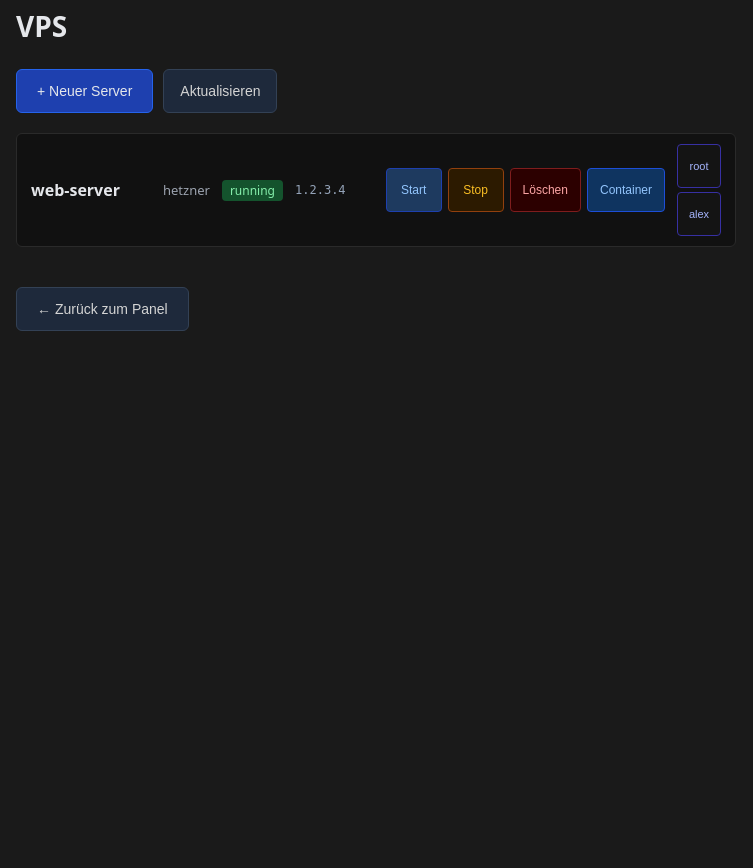
Test: VpsContainerOverview — AC1: Container-Button + Listing-Fetch › Container-Button hat korrekte aria-expanded-Attribute
The width and height of the screenshot is (753, 868).
Click the button "Container" at (626, 190), box [587,168,665,212]
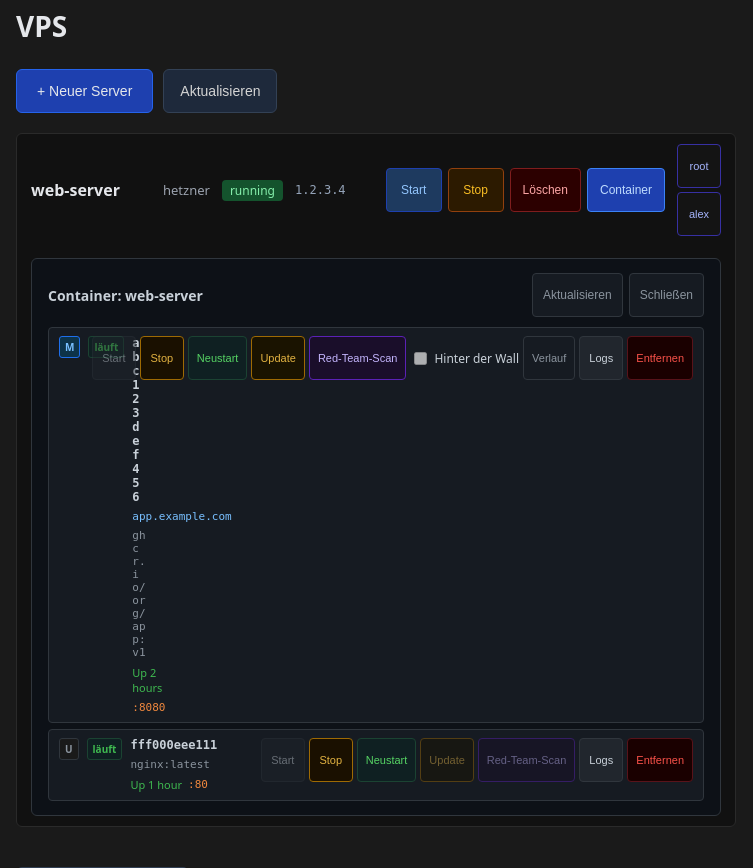
Now the button "Container" is expanded, box [587,168,665,212]
